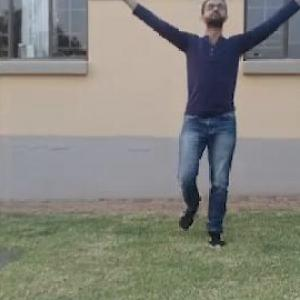takeoff: (88, 0, 299, 256)
